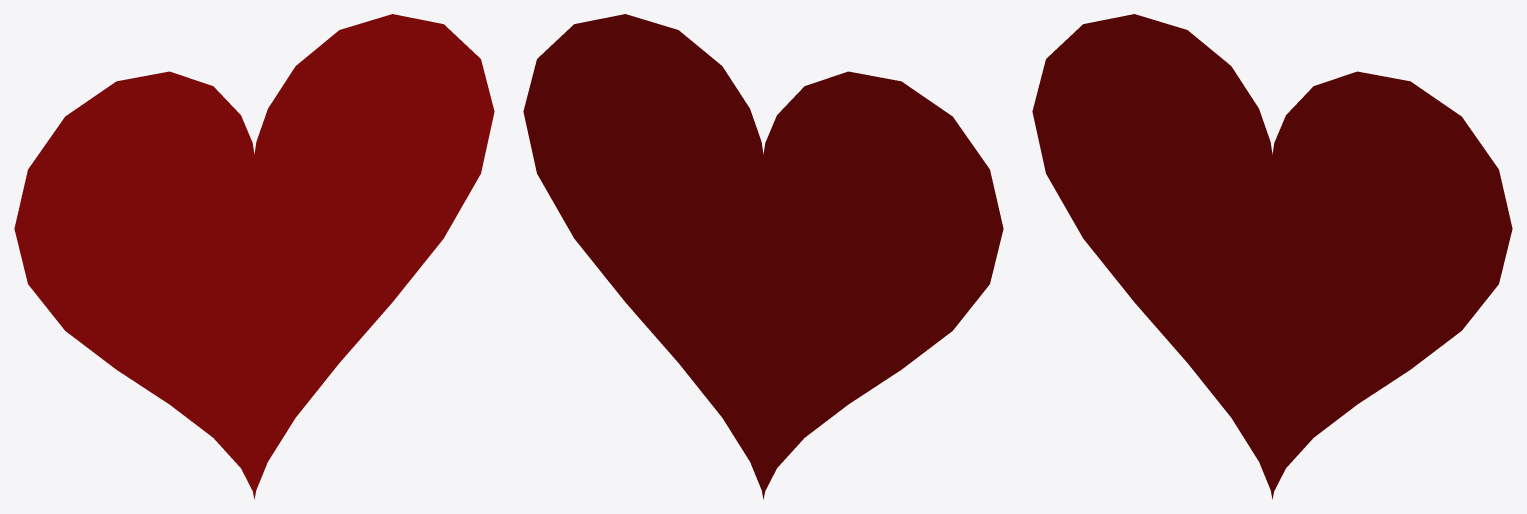
Rendered from placeholder-lovehurts.glb.
3 renders of one model, left to right at view 1: azimuth 30°, elevation 25°; view 2: azimuth 150°, elevation 25°; view 3: azimuth 330°, elevation 25°, orthographic.
Bounding box in the file's own units: 1.6 × 1.44 × 0.
